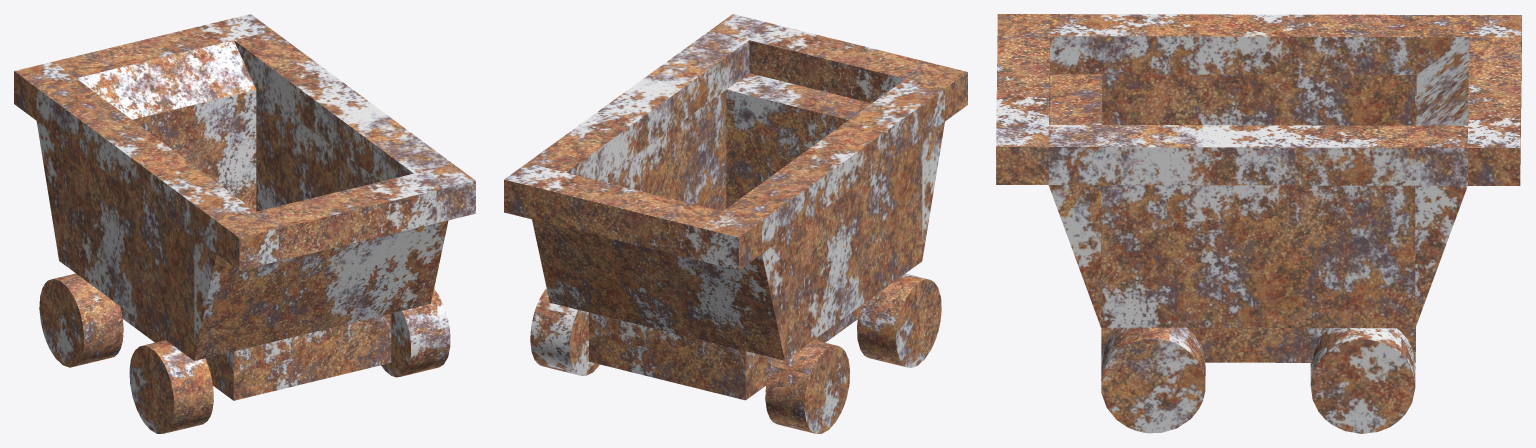
Rendered from Cart4.fbx.
3 views of the same model, side by side, from view 1: azimuth 30°, elevation 25°; view 2: azimuth 150°, elevation 25°; view 3: azimuth 270°, elevation 25° (orthographic). The views are drawn at different scales.
Parts seen in each view (by area): view 1: Cart 4; view 2: Cart 4; view 3: Cart 4.
Boxes of the visible parts, x1,y1,x2,y2 form: Cart 4: (14,14,475,433); Cart 4: (504,14,967,433); Cart 4: (996,14,1521,433).
Bounding box in the file's own units: 174 × 144 × 249.
